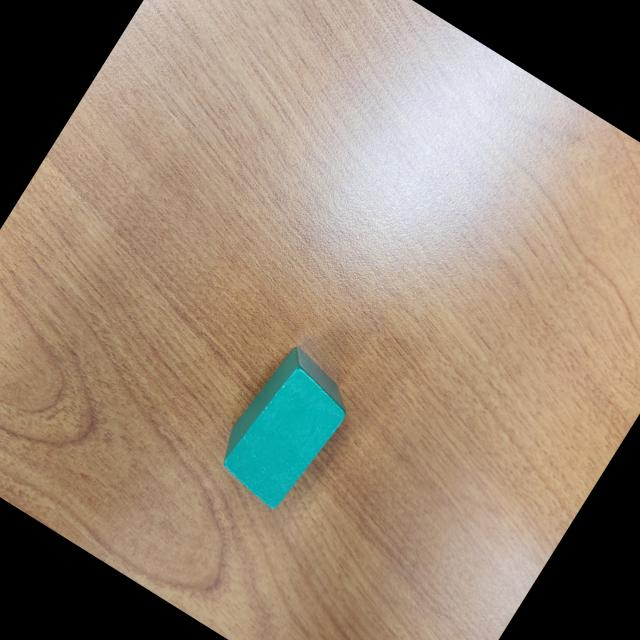green: (204, 340, 363, 518)
